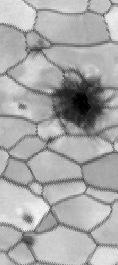good_void: (51, 71, 107, 135), (24, 39, 51, 62), (16, 232, 40, 251), (20, 209, 39, 228), (42, 135, 57, 150), (14, 102, 29, 114)
